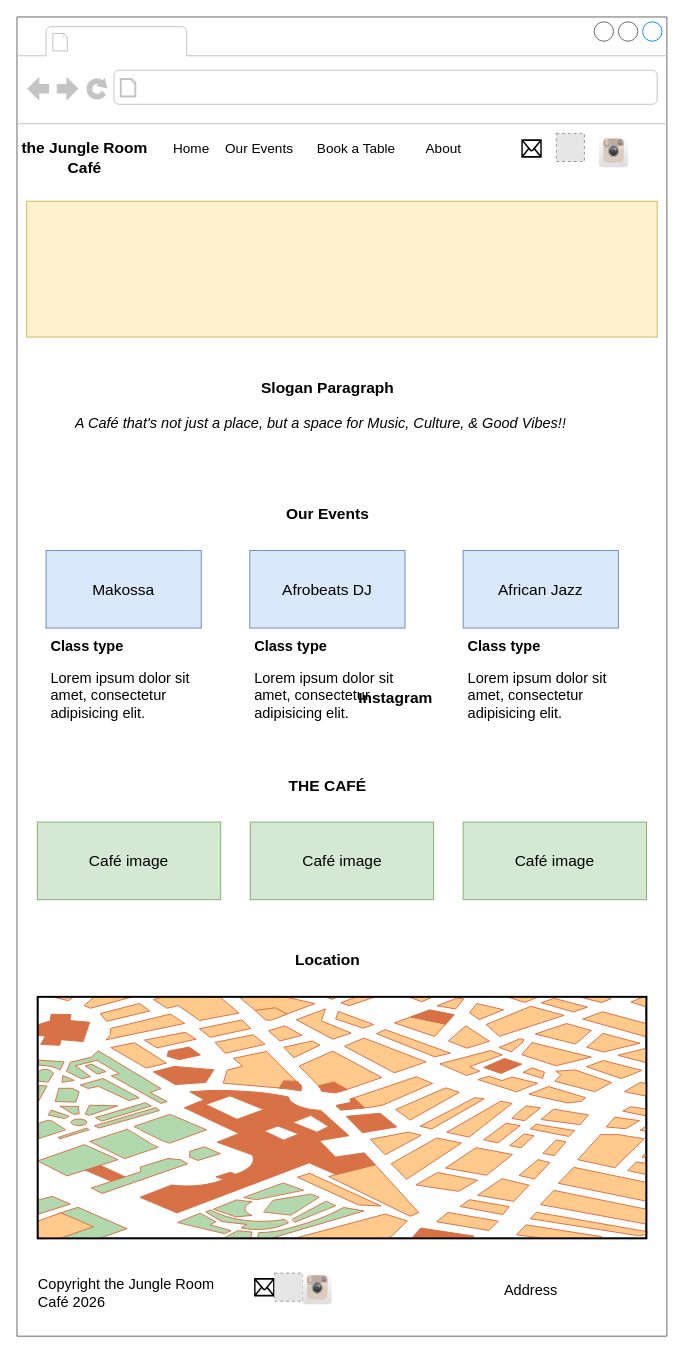
The diagram is 684 pixels wide and 1353 high, and some of its shapes have lost their labels. Grey dashed boxes stand in for pictures. Each missing label, with the box of its shape:
https://www.jungleroomcafé.com: (142, 74, 386, 100)
Main banner: (26, 200, 657, 337)
Page 1: (74, 28, 182, 54)
